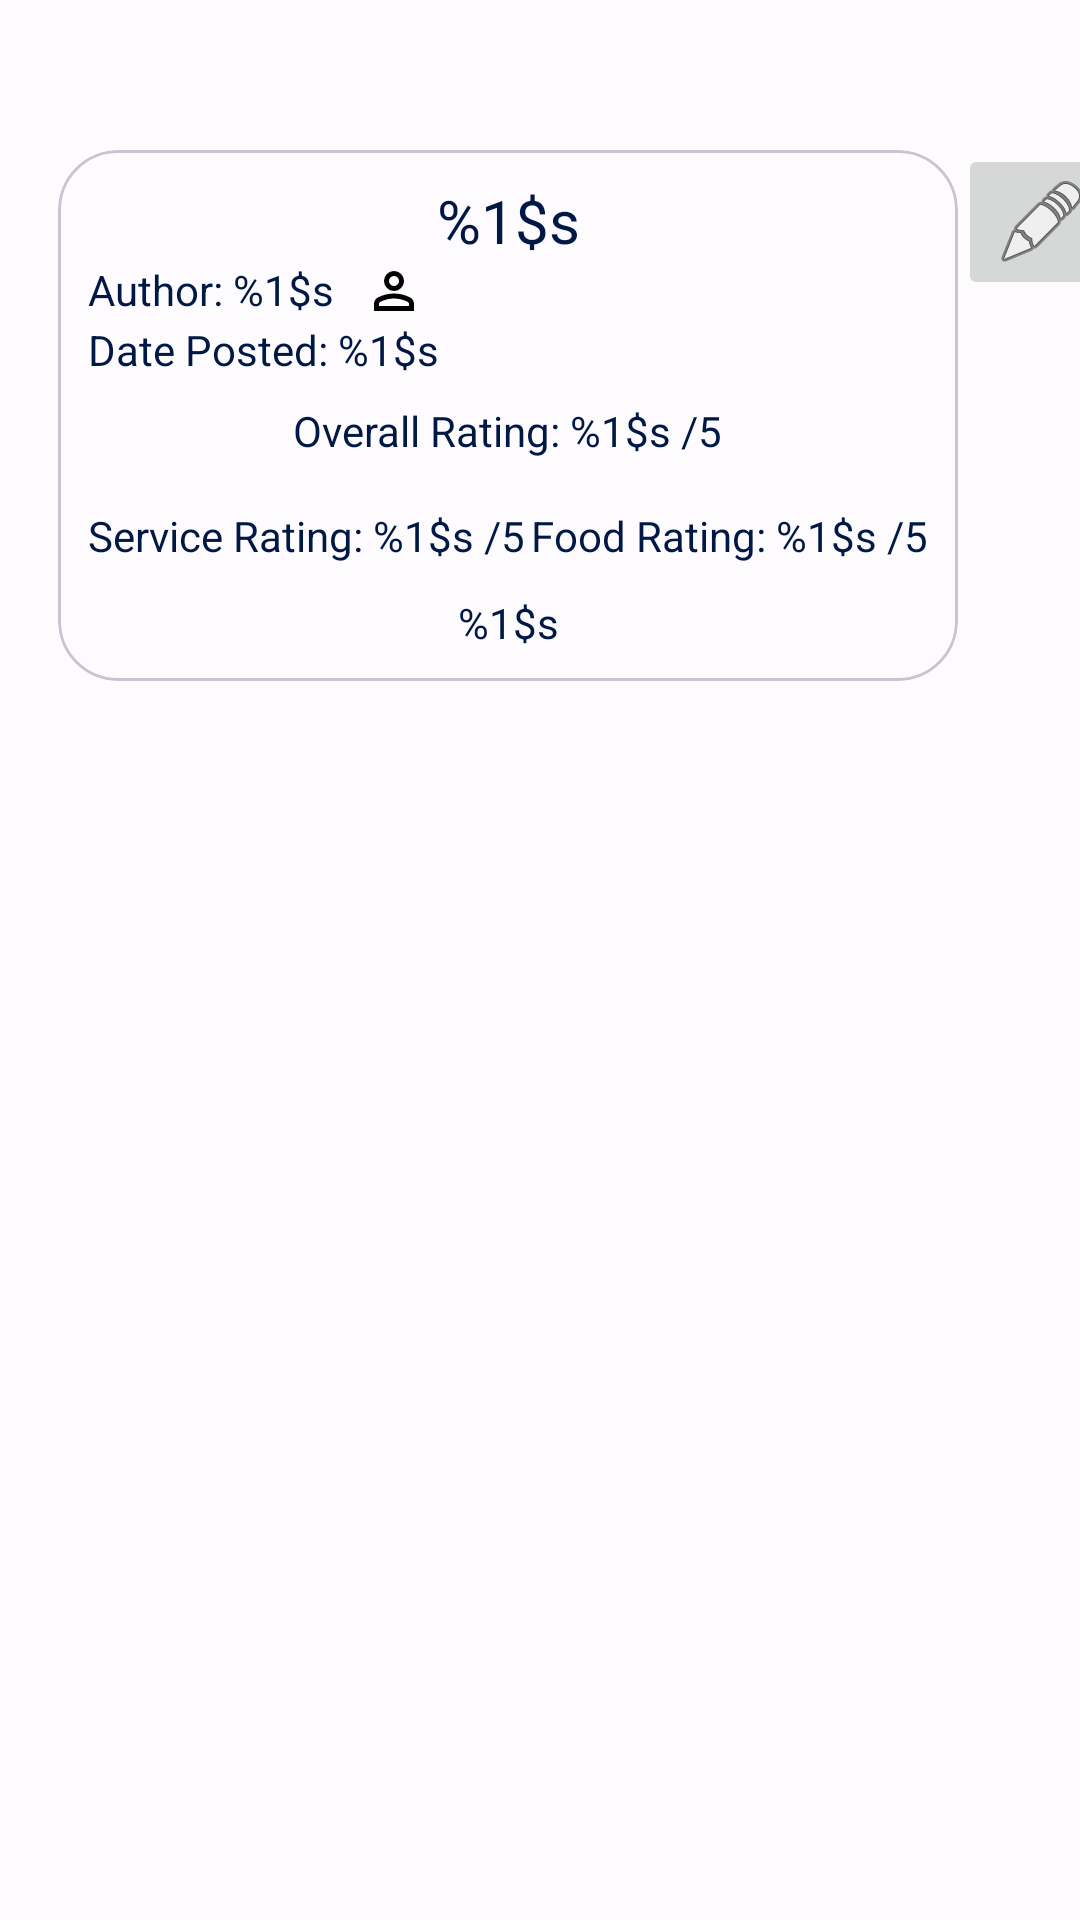

Point at icon controls on the screen. Image size 1080w x 1920h, points as [x,y].
Profile Picture: [394,291]
